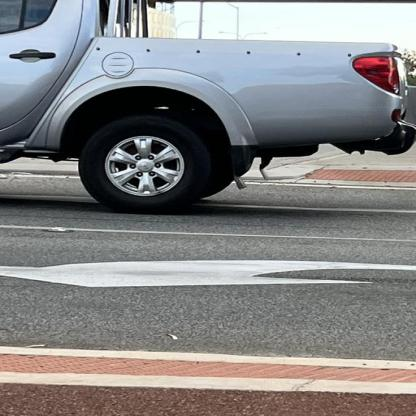Tire: (79, 115, 212, 214)
